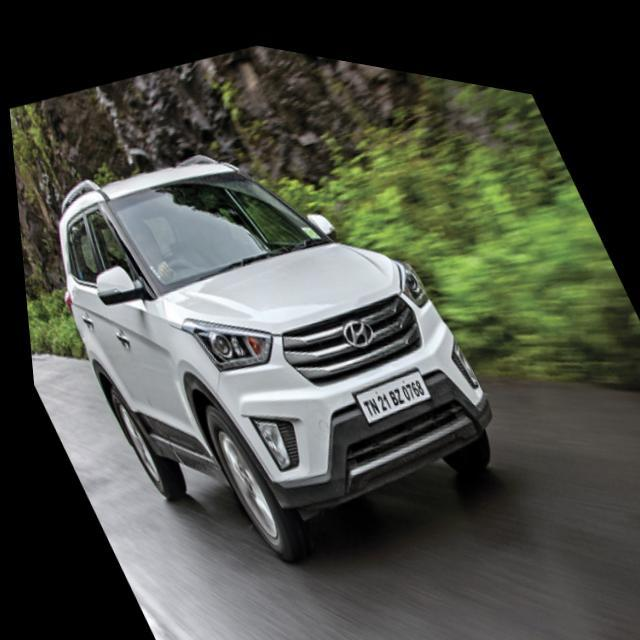license_plate: (336, 341, 432, 418)
